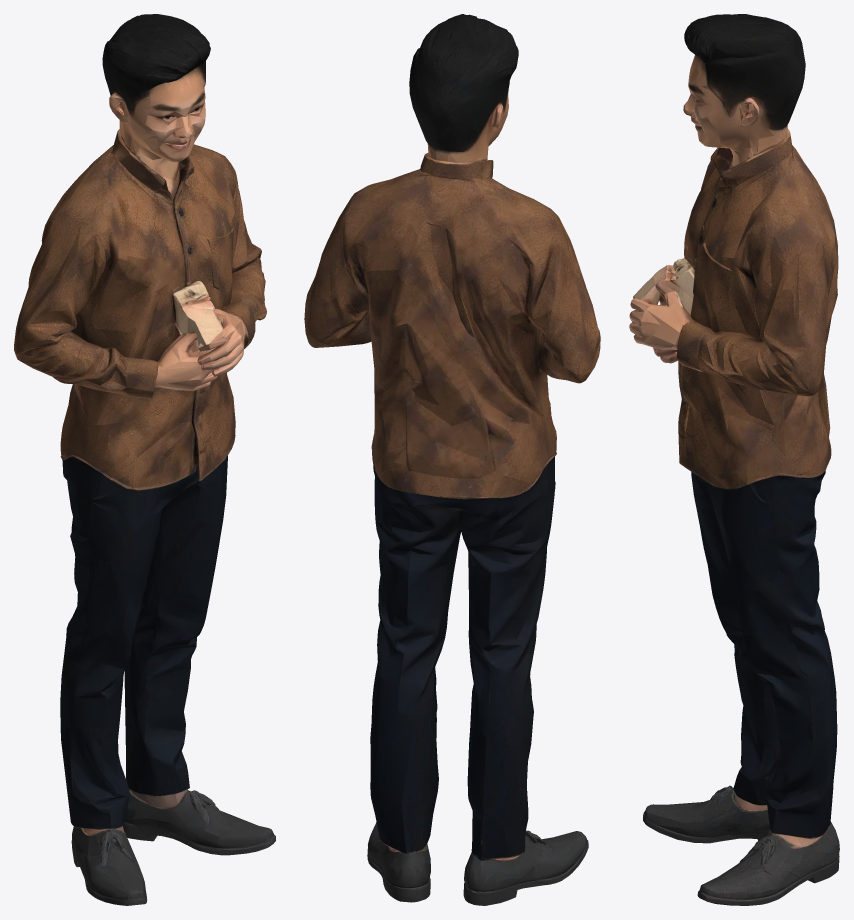
File: host-pria.glb
3 renders of one model, left to right at view 1: azimuth 30°, elevation 25°; view 2: azimuth 150°, elevation 25°; view 3: azimuth 270°, elevation 25°, orthographic.
Size of the model in its own units: 0.6263 by 1.9 by 0.4293.
Materials: 1 (1 with a texture image).
